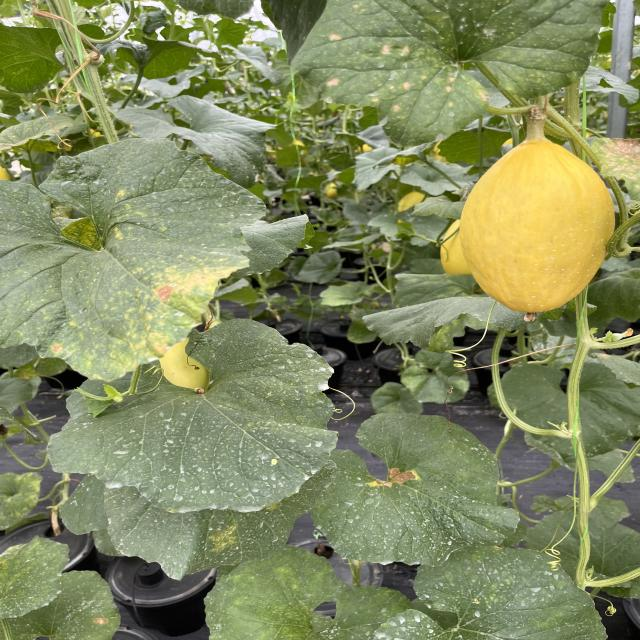alternaria leaf blight: (0, 133, 254, 370), (292, 0, 604, 127), (313, 412, 519, 559), (69, 480, 299, 560), (588, 139, 640, 185)
powdery mildew: (60, 315, 316, 509), (393, 552, 588, 640), (0, 538, 130, 640), (375, 284, 510, 360)
